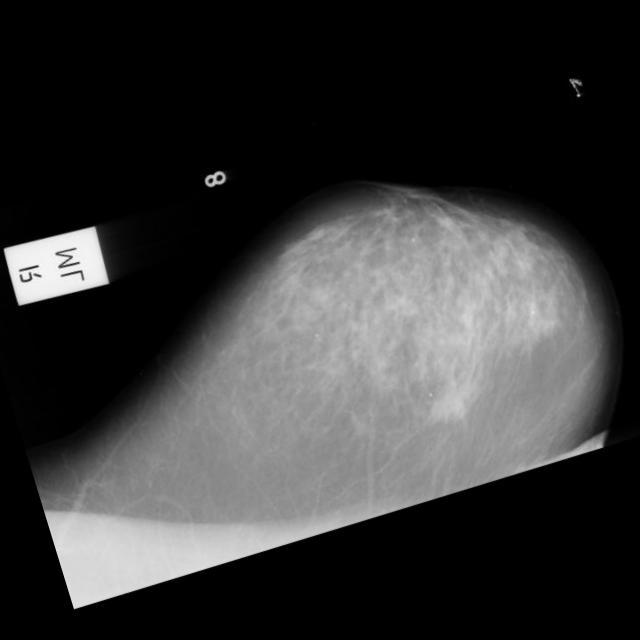MISC: (426, 386, 468, 428)
